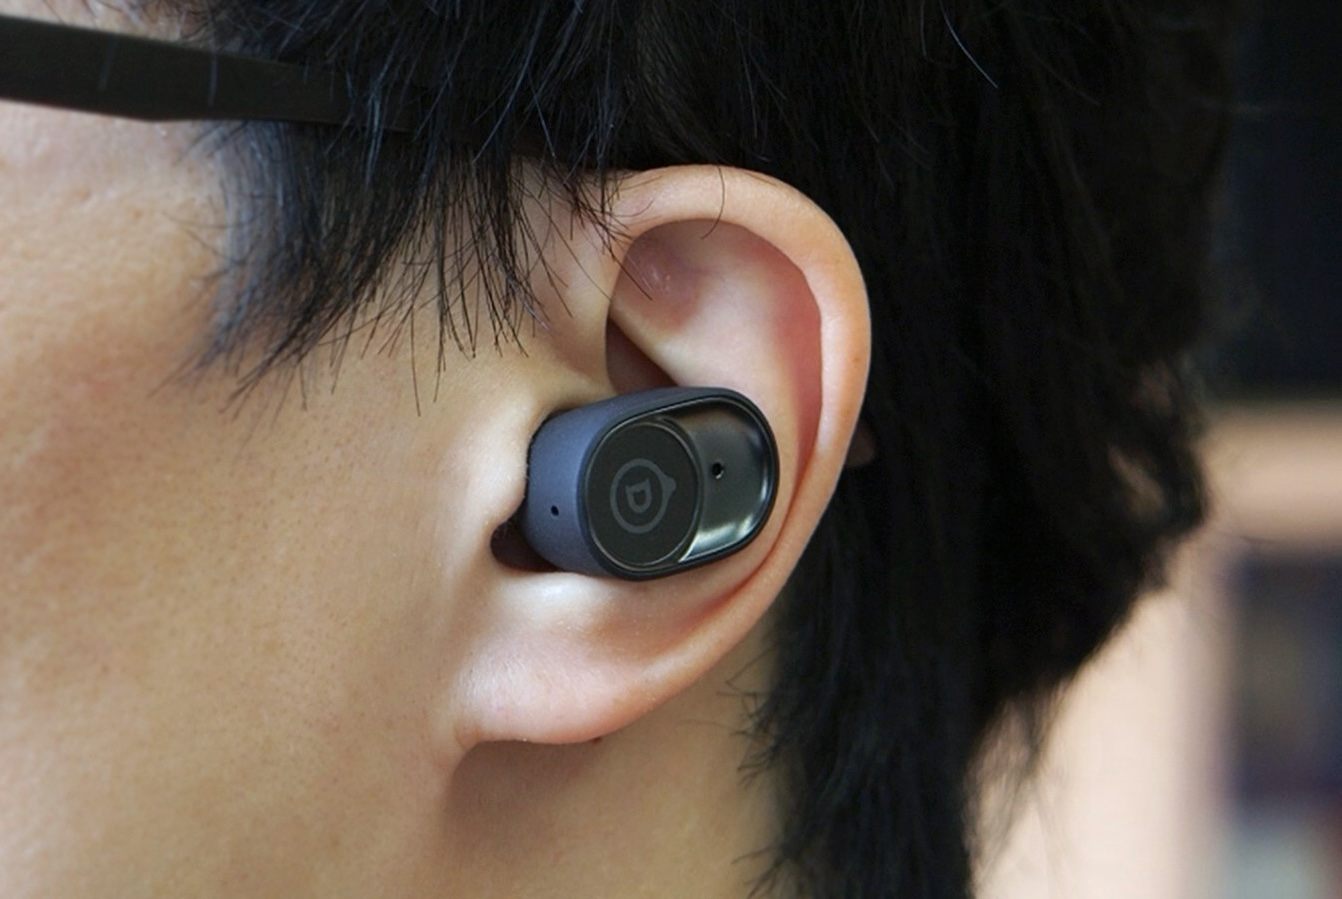earphone: (449, 164, 873, 747)
